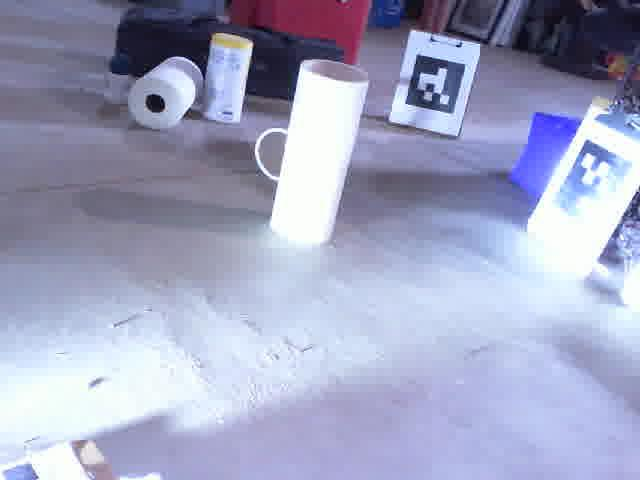coral: (266, 59, 376, 244), (130, 54, 207, 127), (253, 127, 292, 180)
